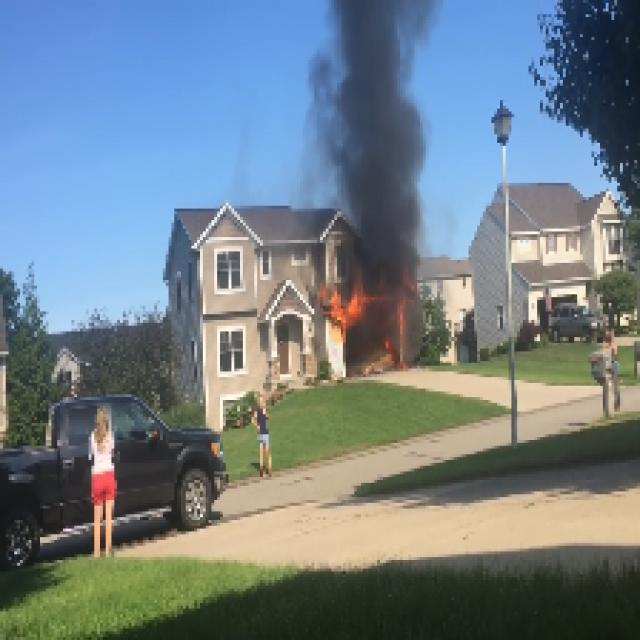Fire: (312, 281, 433, 349)
Smoke: (317, 6, 430, 268)
